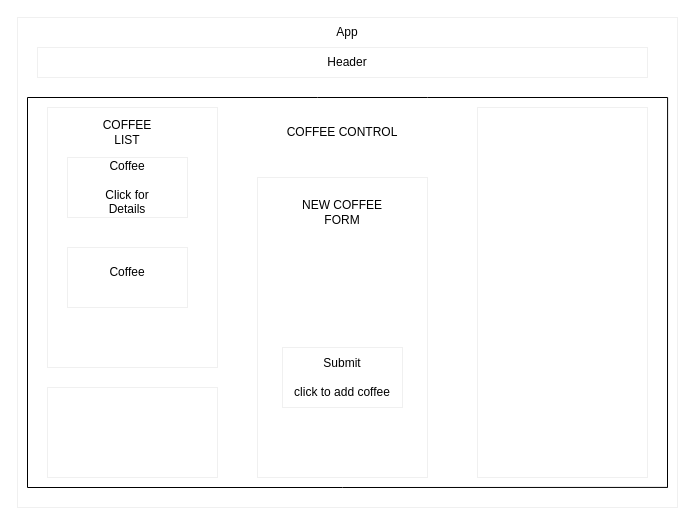
Some shapes in this 695 by 525 pixel diagram are drawn without their labels. The shapes that lost their labels are listed below. From the top down, each one's box as (x1, y1, x2, y2) in pixels, then its label:
(476, 106, 648, 478): COFFEE DETAIL
(46, 386, 218, 478): Add Coffee click for new coffee form
